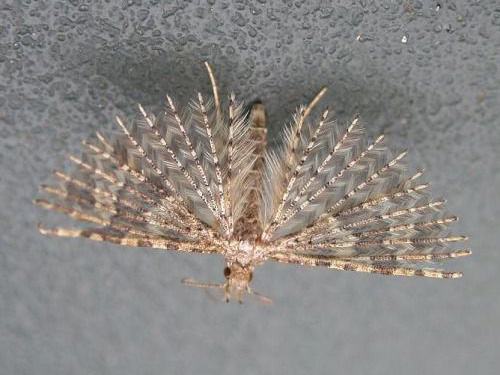Alucitidae: (31, 52, 476, 309)
moth: (33, 54, 478, 311)
